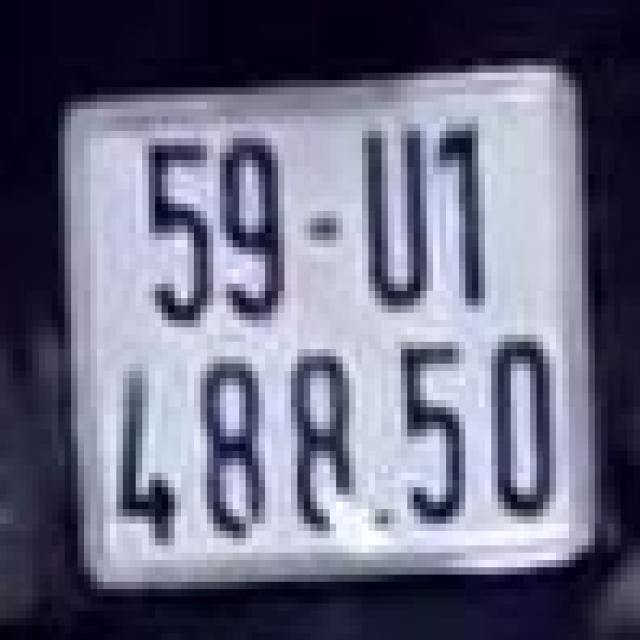0: (482, 316, 566, 528)
1: (433, 98, 517, 309)
4: (107, 338, 184, 564)
5: (384, 334, 482, 552), (126, 120, 217, 331)
8: (288, 342, 378, 545), (190, 346, 274, 556)
9: (210, 113, 301, 316)
U: (352, 106, 437, 309)
